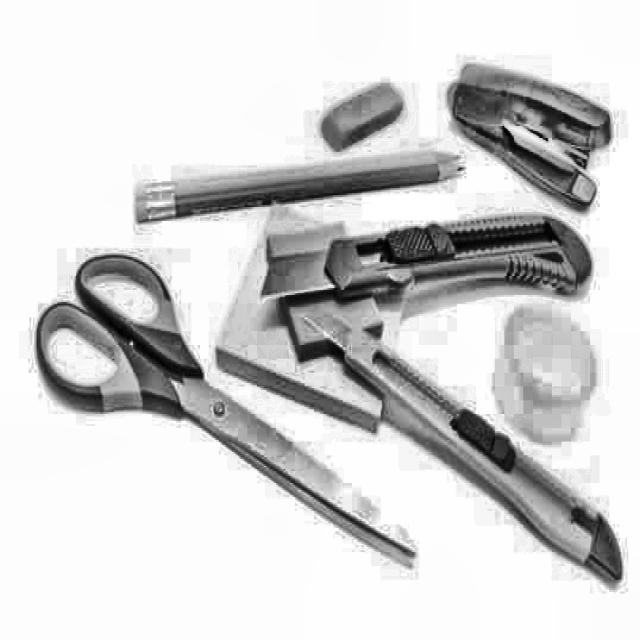eraser: (131, 152, 457, 196), (322, 80, 411, 148)
